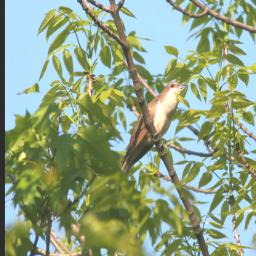Cuckoo: (118, 81, 187, 178)
